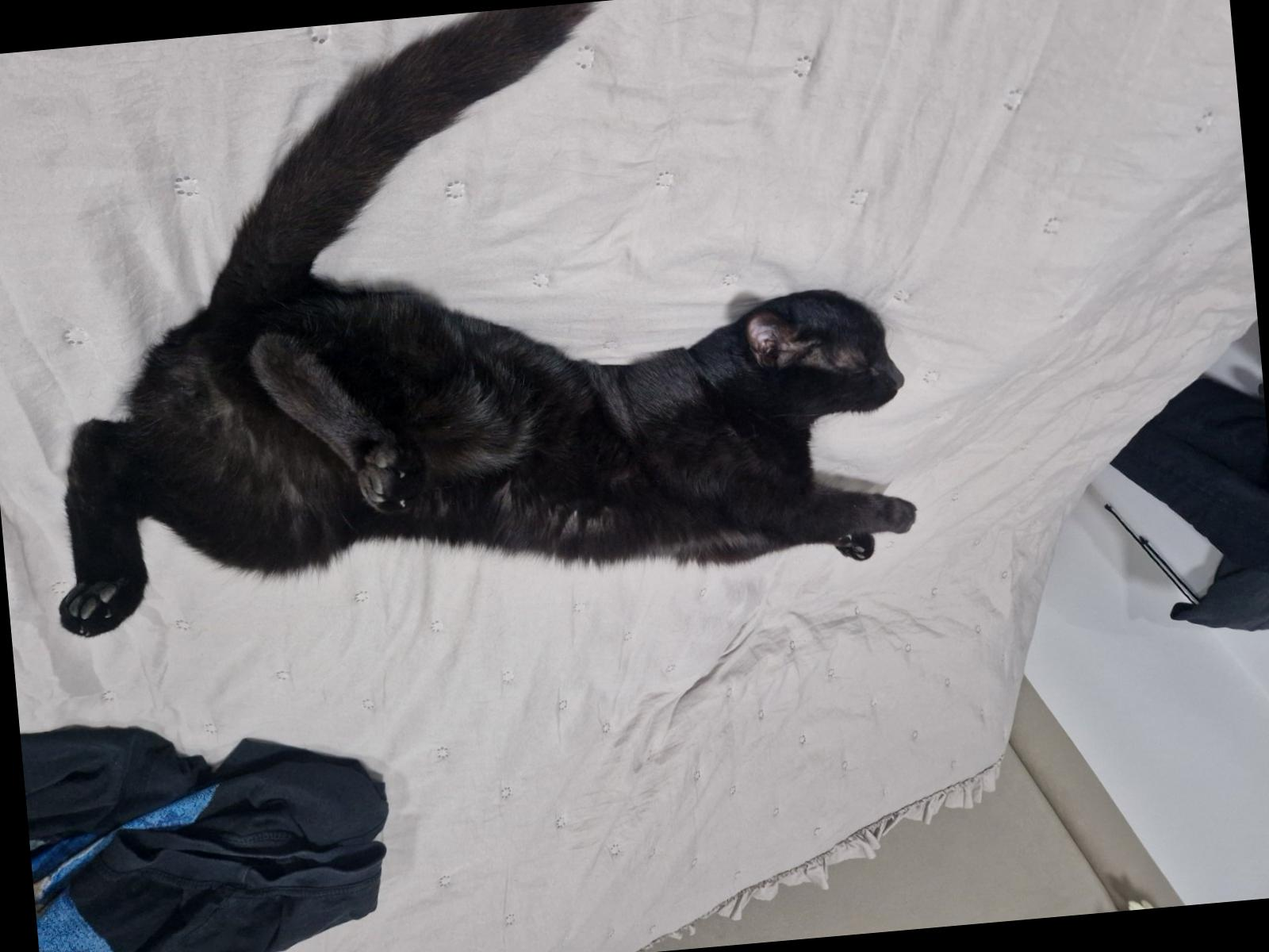macka: (0, 0, 926, 653)
